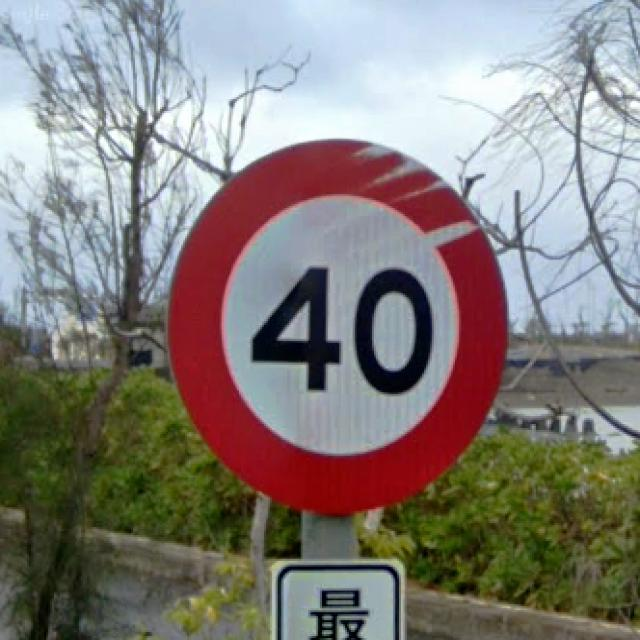max40: (164, 135, 509, 515)
